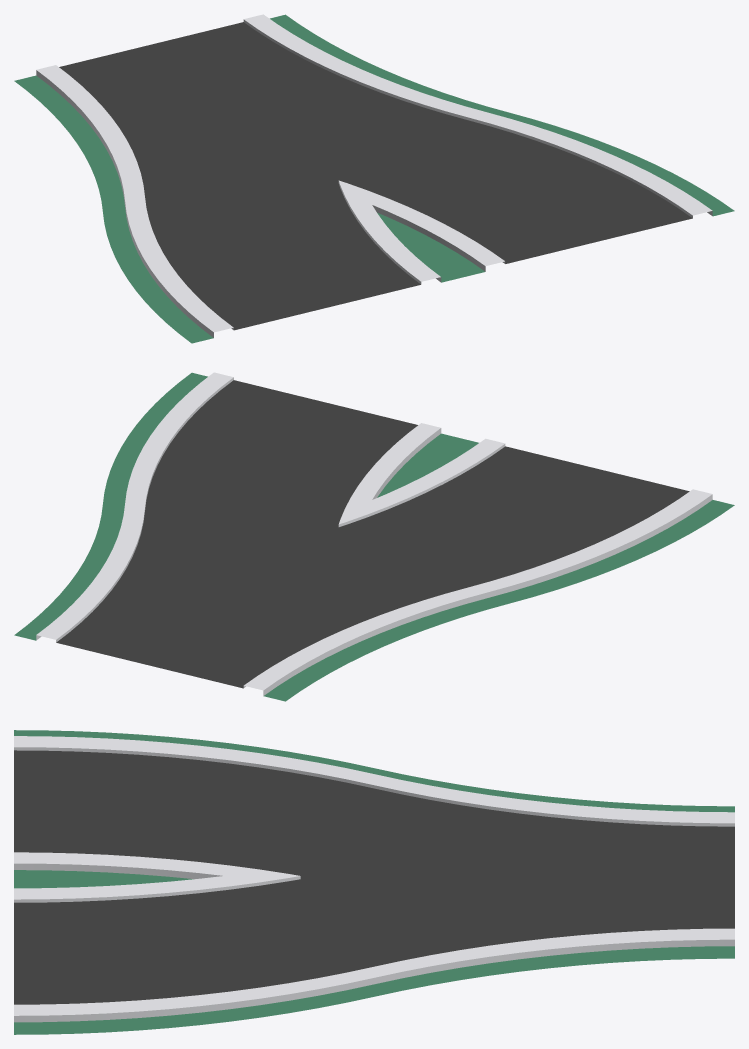
The model's file is roadCurvedSplit_exclusive.fbx.
3 views of the same model, one above another, from view 1: azimuth 30°, elevation 25°; view 2: azimuth 150°, elevation 25°; view 3: azimuth 270°, elevation 25° (orthographic). The views are drawn at different scales.
Parts seen in each view (by area): view 1: roadCurvedSplit_exclusive; view 2: roadCurvedSplit_exclusive; view 3: roadCurvedSplit_exclusive.
Part boxes in pixels (x1,y1,x2,y2): roadCurvedSplit_exclusive: (14, 14, 734, 343); roadCurvedSplit_exclusive: (14, 372, 734, 701); roadCurvedSplit_exclusive: (14, 730, 734, 1034).
Bounding box in the file's own units: 20 × 0.2 × 20.
